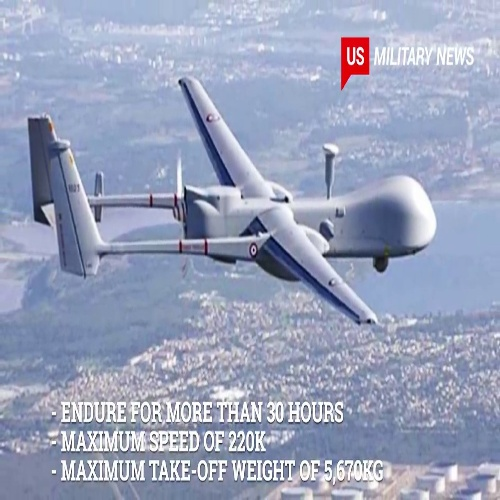uav539: (24, 77, 439, 322)
